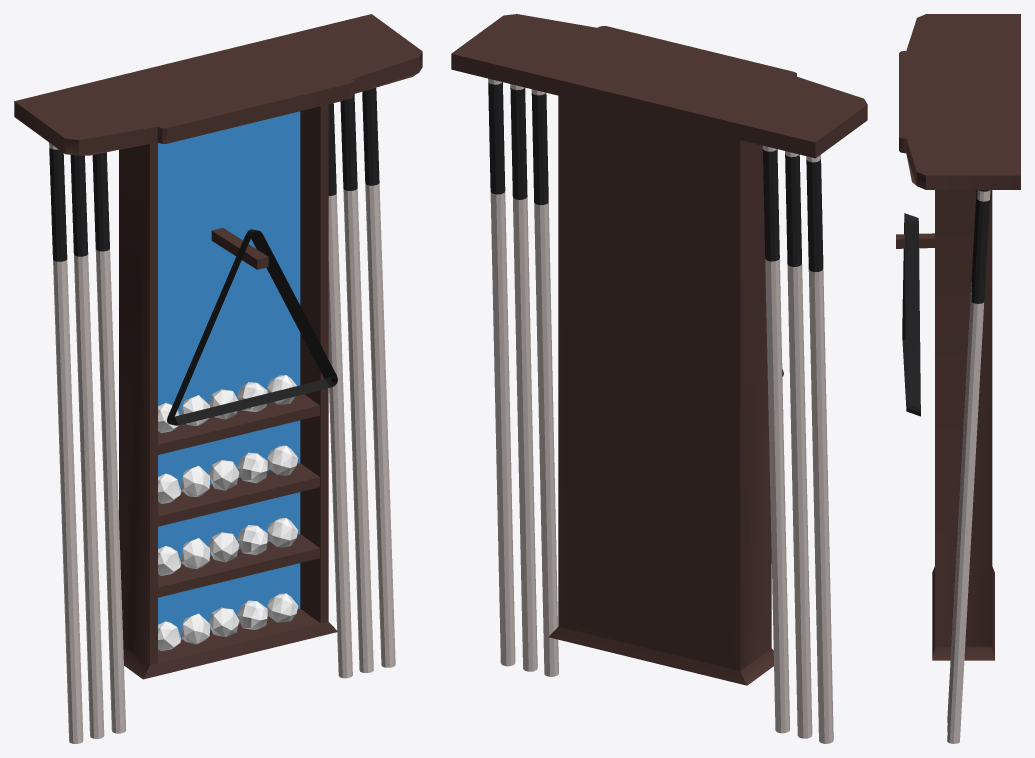
Rendered from entertainment_035.fbx.
3 views of the same model, side by side, from view 1: azimuth 30°, elevation 25°; view 2: azimuth 150°, elevation 25°; view 3: azimuth 270°, elevation 25° (orthographic). The views are drawn at different scales.
Visible parts, largest first — view 1: entertainment_035; view 2: entertainment_035; view 3: entertainment_035.
Boxes of the visible parts, x1=… form: entertainment_035: x1=14, y1=14, x2=422, y2=743; entertainment_035: x1=451, y1=14, x2=867, y2=743; entertainment_035: x1=896, y1=14, x2=1020, y2=743.
Bounding box in the file's own units: 98.75 × 32.23 × 164.
